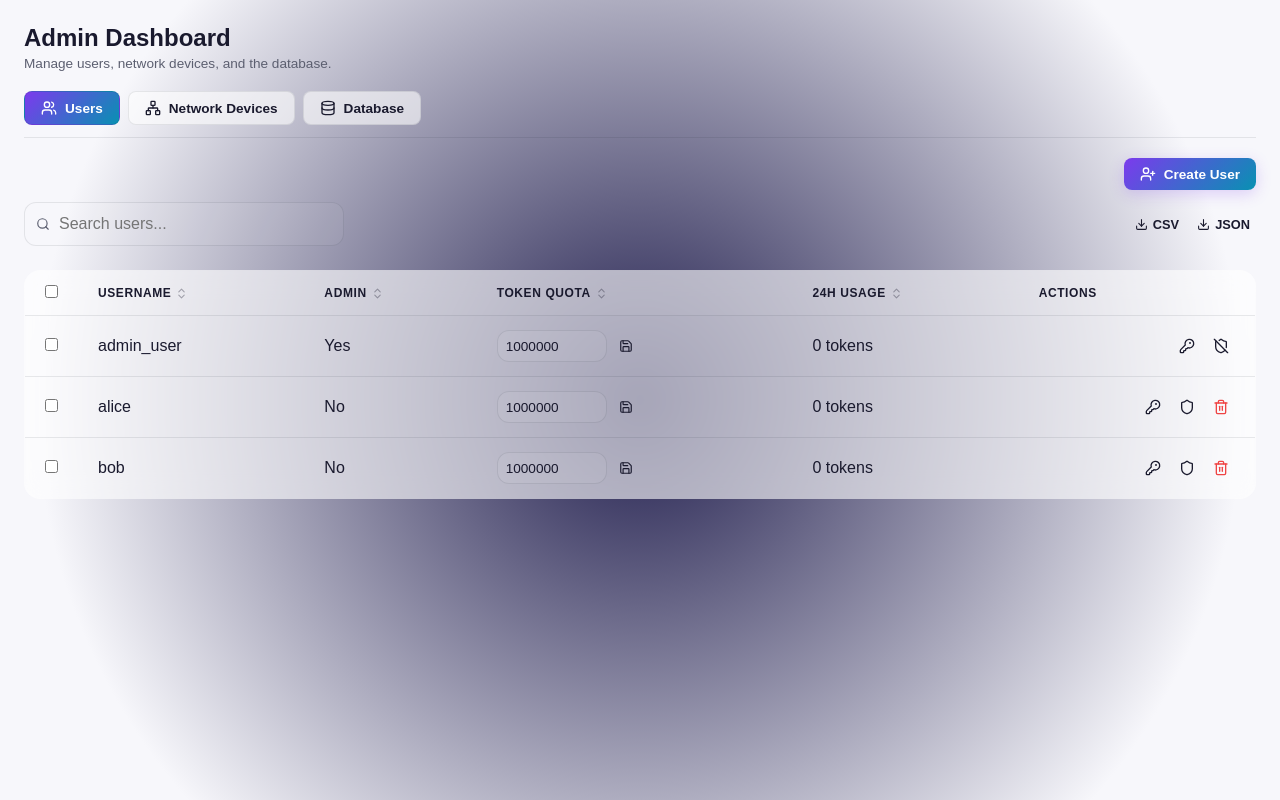
Test: AdminDashboard - bulk delete users › shows an informative message instead of a delete button when only the requester is selected
This screenshot has width=1280, height=800.
Expected: the text "admin_user" is shown, [78,316,304,376]
Click the checkbox named "Select admin_user" at (52, 344), box [45,338,58,351]
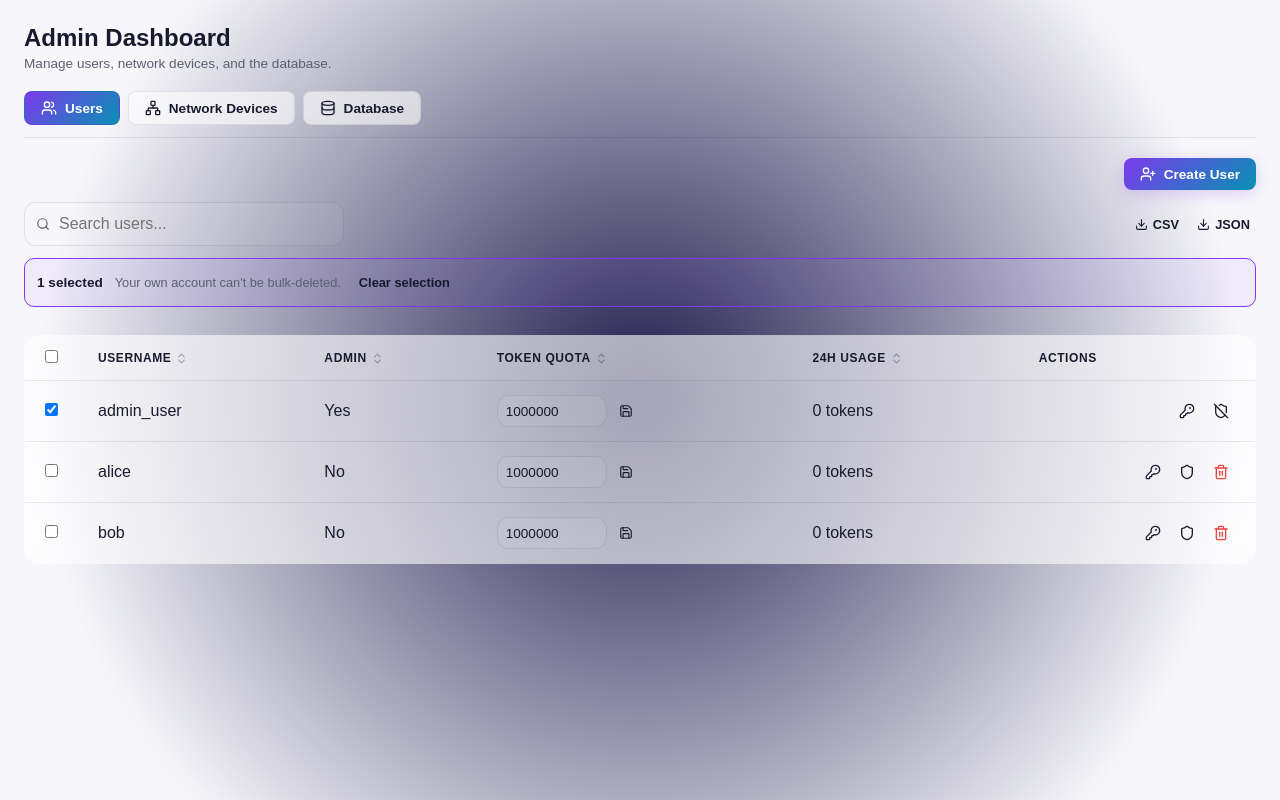
Result: the text "Your own account can't be bulk-deleted." is shown at [115,275,341,290]
